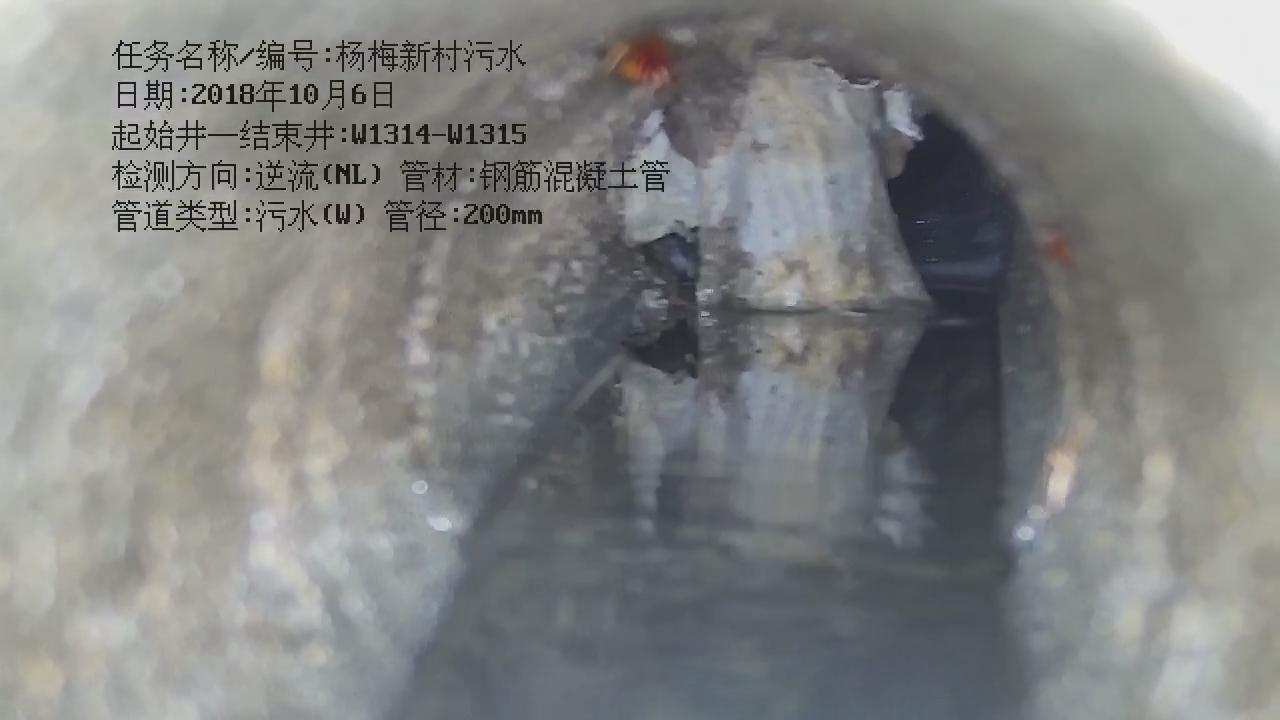YWCR: (623, 45, 924, 312)
